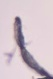microplastic: (13, 16, 53, 78), (3, 47, 17, 64)
